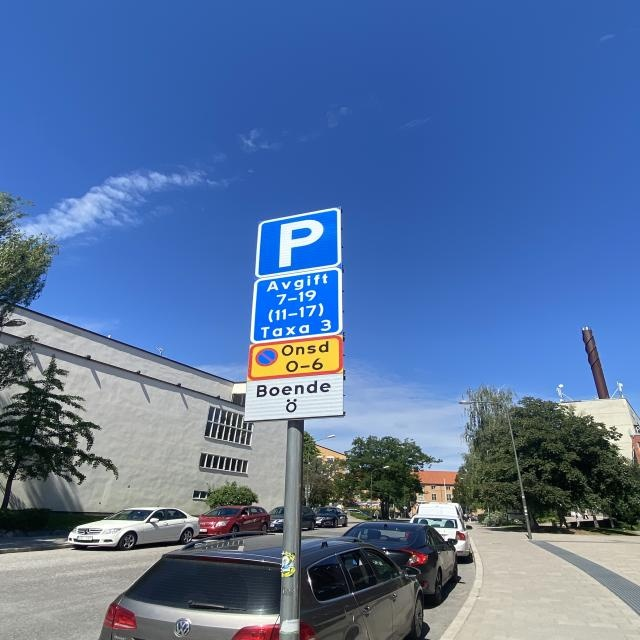P-skylt: (255, 208, 339, 275)
